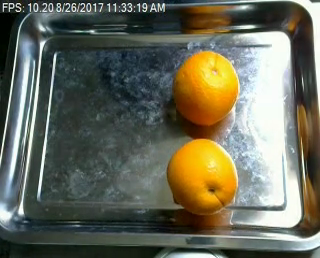Orange: (166, 139, 237, 213), (171, 49, 239, 123)
